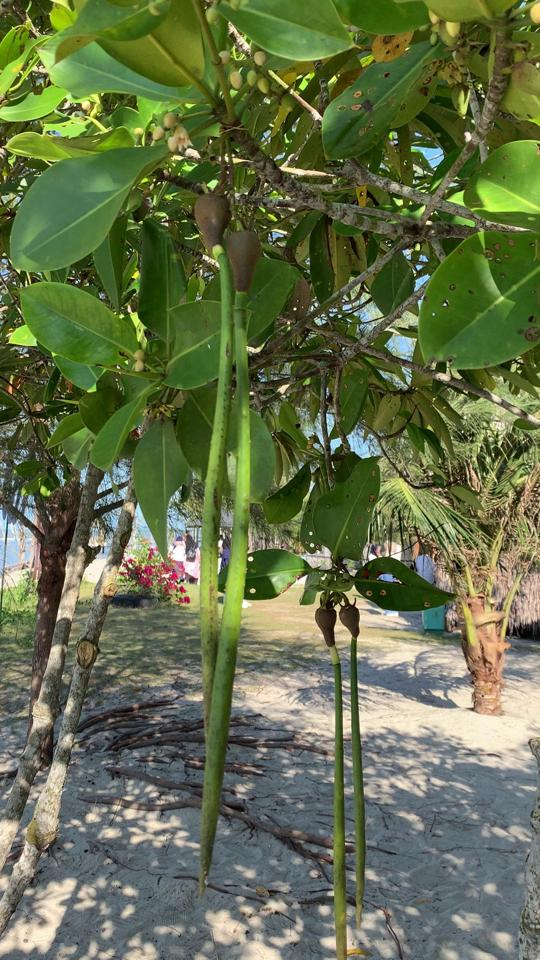setengah matang: (190, 170, 238, 749)
